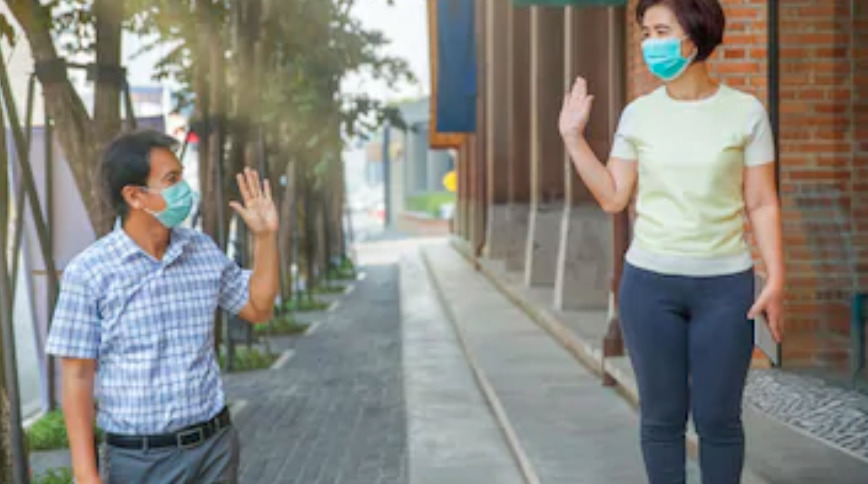Good: (47, 1, 784, 484)
